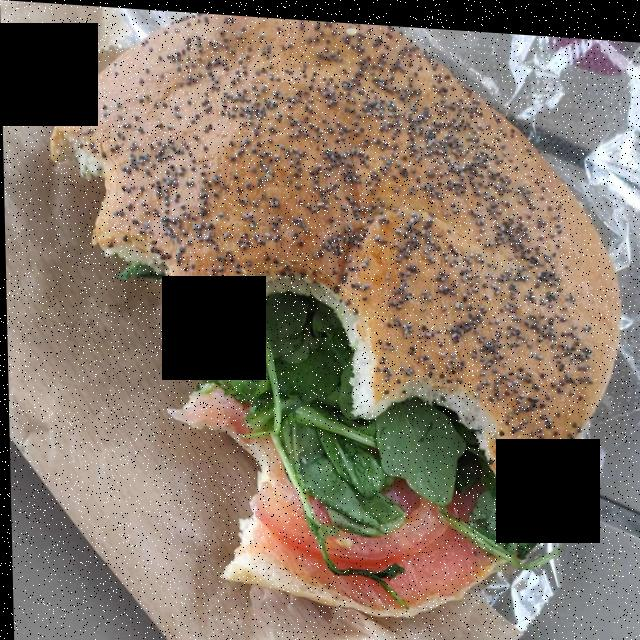hamburger-bun: (62, 13, 614, 606)
salad-rocket: (213, 296, 543, 555)
salmon-smoked: (179, 382, 482, 592)
tomato-raw: (252, 466, 446, 563)
